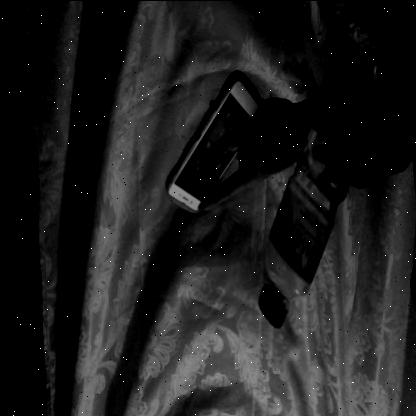Plastic Bottle: (257, 12, 381, 396)
